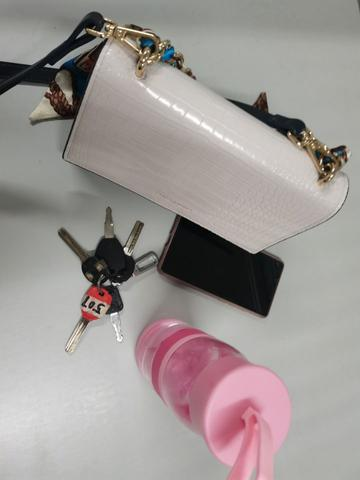bag: (35, 7, 355, 269)
cup: (131, 315, 294, 478)
key: (55, 205, 155, 353)
phone: (154, 214, 280, 318)
